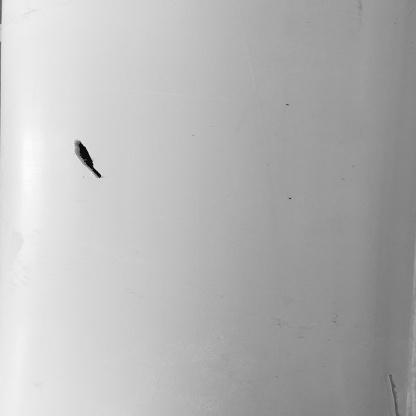kongdong: (66, 130, 111, 182)
sunshang: (384, 371, 406, 416)
